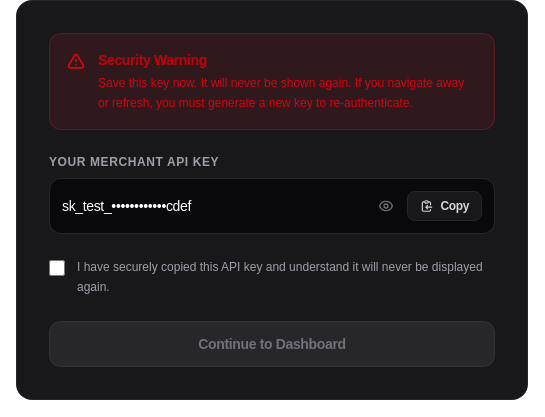
Test: ApiKeyDisplay Component › toggles API key visibility when reveal button is clicked
Click the button titled "Show API key" at (386, 206), box [371,191,401,221]
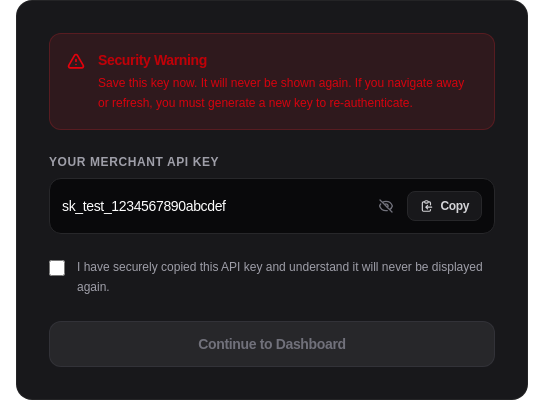
Expected: the text "sk_test_1234567890abcdef" is shown, [62,198,226,214]
Click the button titled "Hide API key" at (386, 206), box [371,191,401,221]
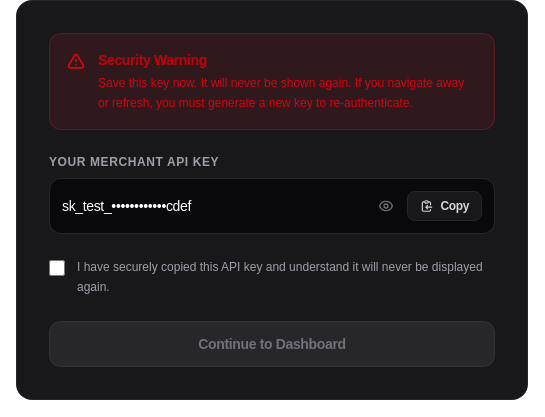
Expected: the text "sk_test_••••••••••••cdef" is shown, [62,198,191,214]
